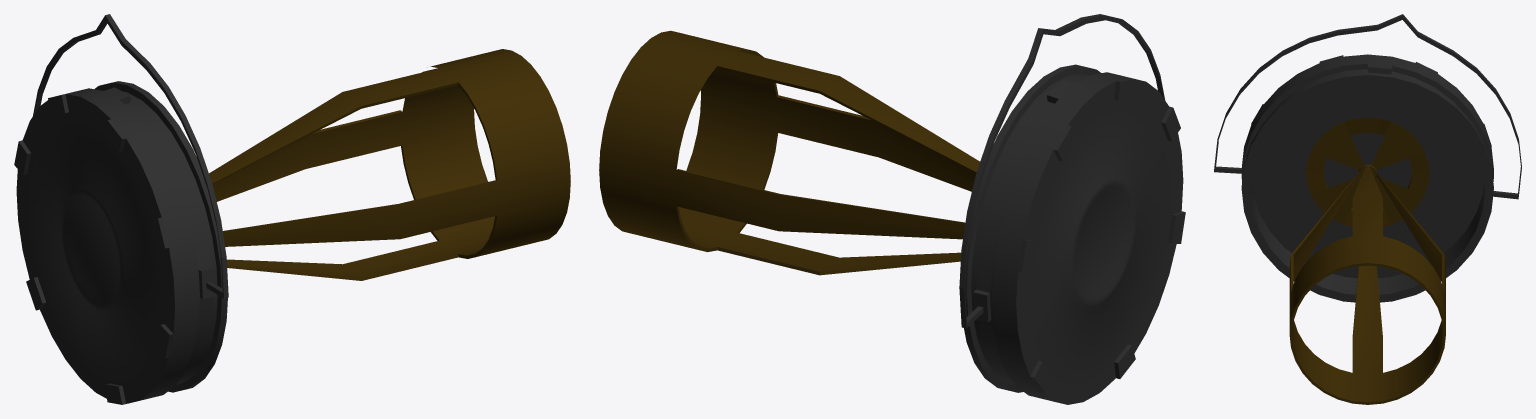
Rendered from ПТ-ПередКрышка_П.fbx.
The picture shows the model from 3 angles, left to right: view 1: azimuth 30°, elevation 25°; view 2: azimuth 150°, elevation 25°; view 3: azimuth 270°, elevation 25°; orthographic projection. The views are drawn at different scales.
Parts seen in each view (by area): view 1: Передняя крышка.001; view 2: Передняя крышка.001; view 3: Передняя крышка.001.
Boxes of the visible parts, x1=… form: Передняя крышка.001: x1=14, y1=14, x2=570, y2=404; Передняя крышка.001: x1=599, y1=14, x2=1185, y2=404; Передняя крышка.001: x1=1214, y1=14, x2=1521, y2=404.
Bounding box in the file's own units: 179 × 141 × 140.
1 material, 1 textured.
